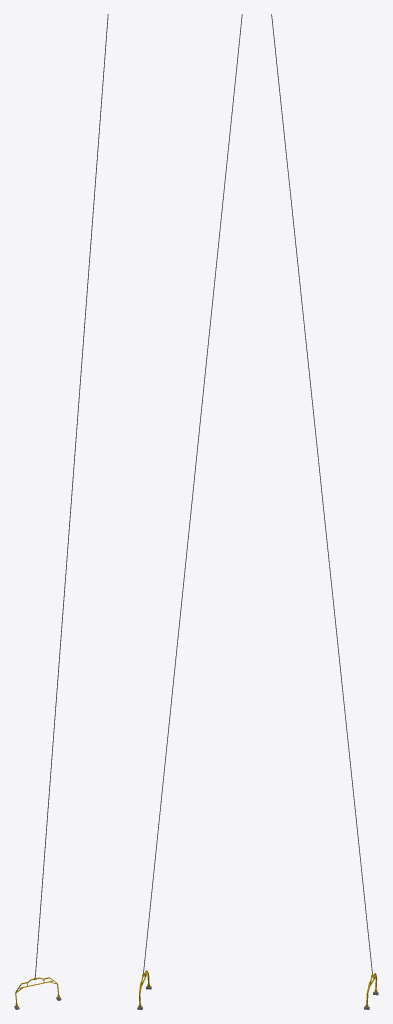
File: Halterung1.fbx
3 views of the same model, side by side, from view 1: azimuth 90°, elevation 25°; view 2: azimuth 150°, elevation 25°; view 3: azimuth 330°, elevation 25° (orthographic). The views are drawn at different scales.
Parts seen in each view (by area): view 1: StartHalterung1; view 2: StartHalterung1; view 3: StartHalterung1.
Part boxes in pixels (x1=…): StartHalterung1: x1=14, y1=14, x2=108, y2=1009; StartHalterung1: x1=137, y1=14, x2=242, y2=1009; StartHalterung1: x1=271, y1=14, x2=378, y2=1009.
Bounding box in the file's own units: 9010 × 115801 × 9645.
